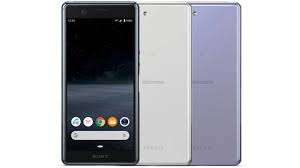sony: (58, 1, 141, 167)
